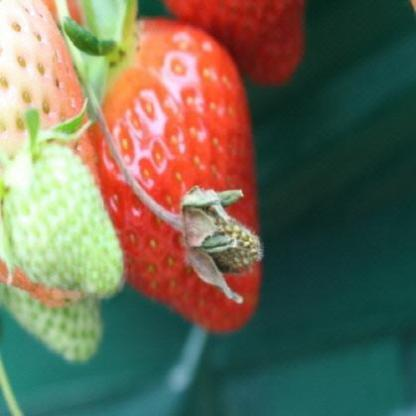Strawberry_Gray_Mold: (150, 184, 264, 304)
